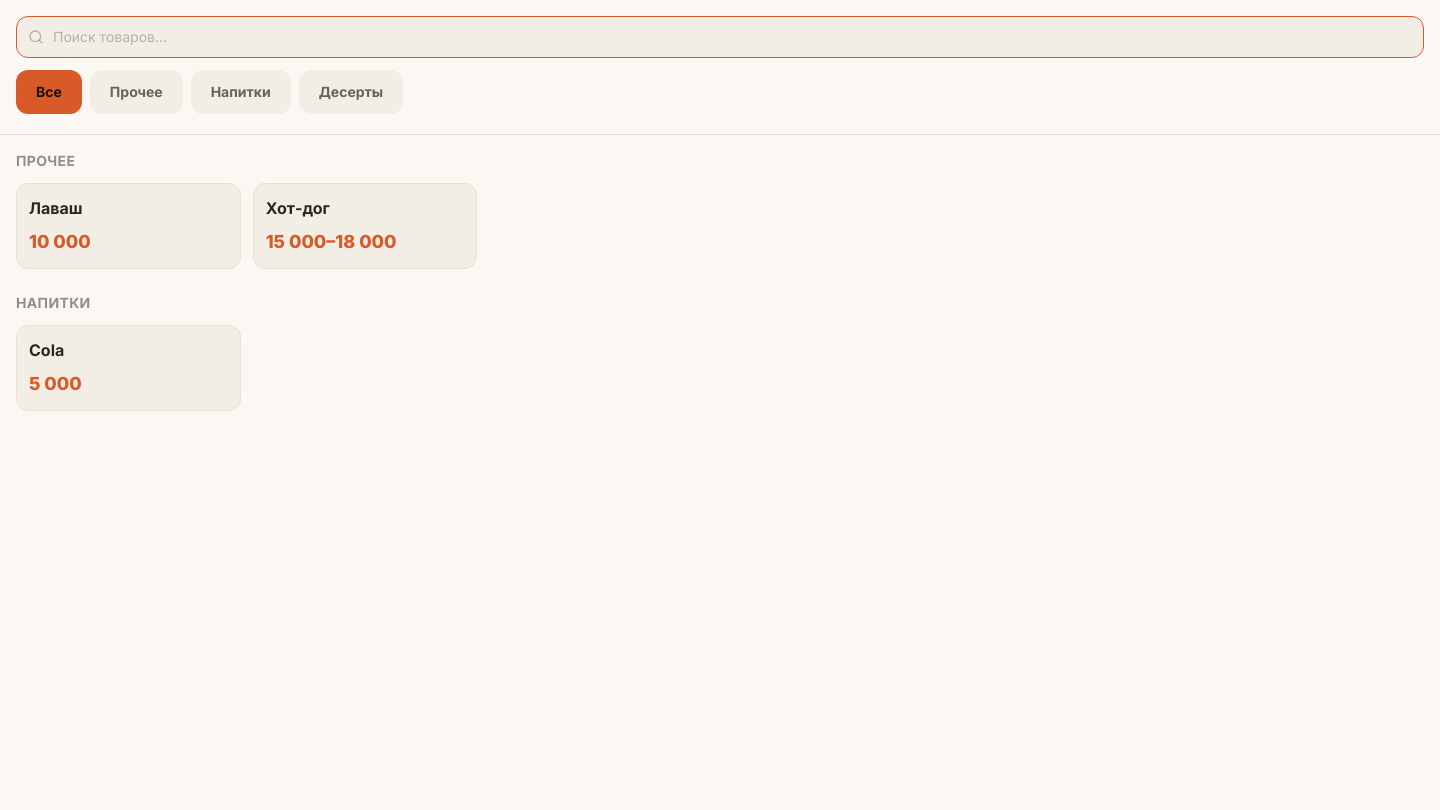
Test: PosMenu — Cashier multi-variant UX › multi-variant tile: tap opens the picker and adds nothing yet
Click the button "Хот-дог 15 000–18 000" at (365, 226), box [253,183,477,269]
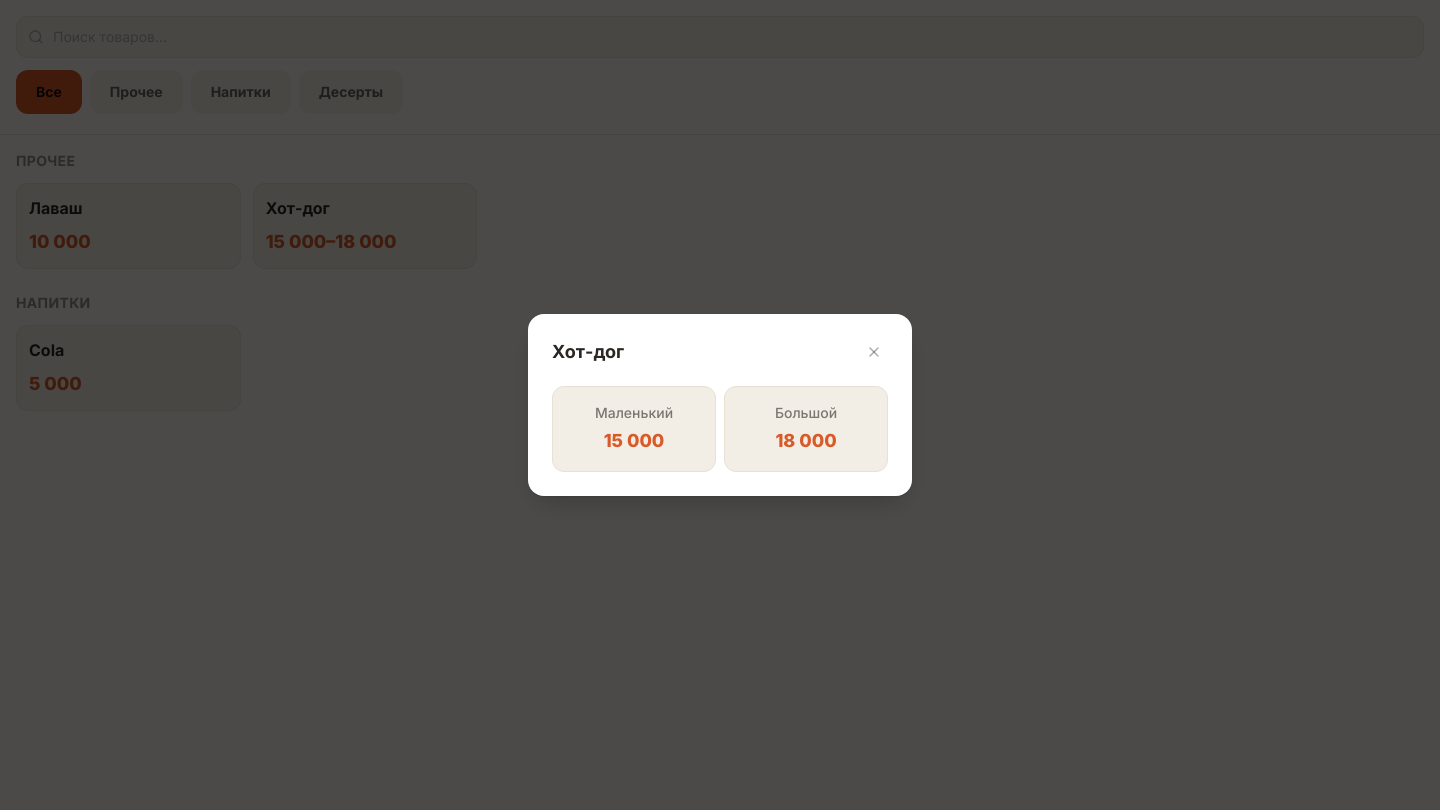
Expected: the dialog is shown, [528,314,912,496]
